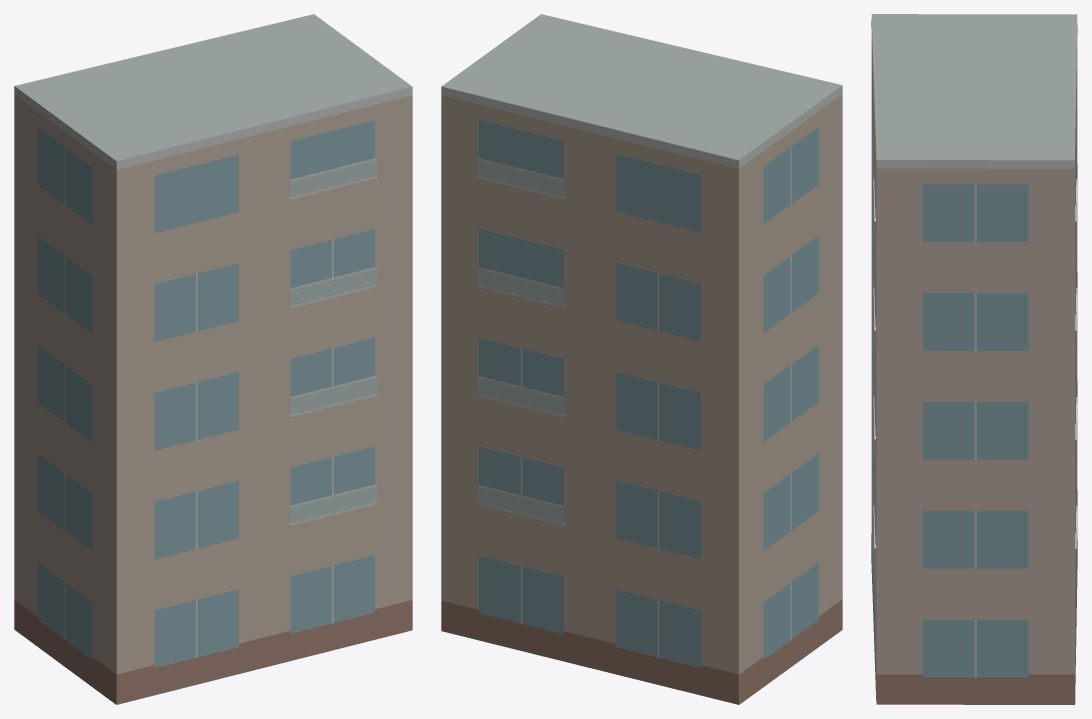
Rendered from survey-upis-32647655.glb.
3 renders of one model, left to right at view 1: azimuth 30°, elevation 25°; view 2: azimuth 150°, elevation 25°; view 3: azimuth 270°, elevation 25°, orthographic.
Visible parts, largest first — view 1: survey-upis-32647655.tmp; view 2: survey-upis-32647655.tmp; view 3: survey-upis-32647655.tmp.
Boxes of the visible parts, box(x1,y1,x2,y2) form: survey-upis-32647655.tmp: box(14, 14, 412, 704); survey-upis-32647655.tmp: box(441, 14, 842, 704); survey-upis-32647655.tmp: box(871, 14, 1077, 704).
Size of the model in its own units: 8.79 by 15.25 by 5.24.
